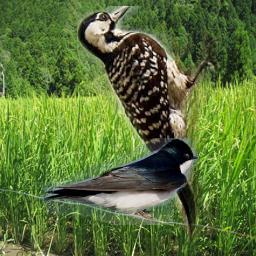Swallow: (41, 138, 198, 225)
Woodpecker: (77, 6, 218, 243)
